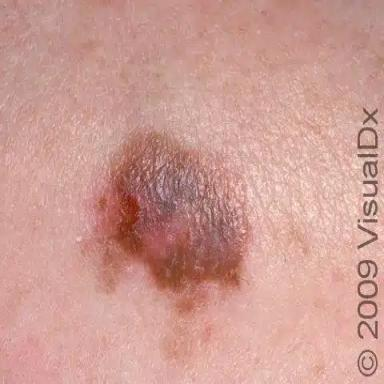Melanoma: (78, 123, 256, 319)
